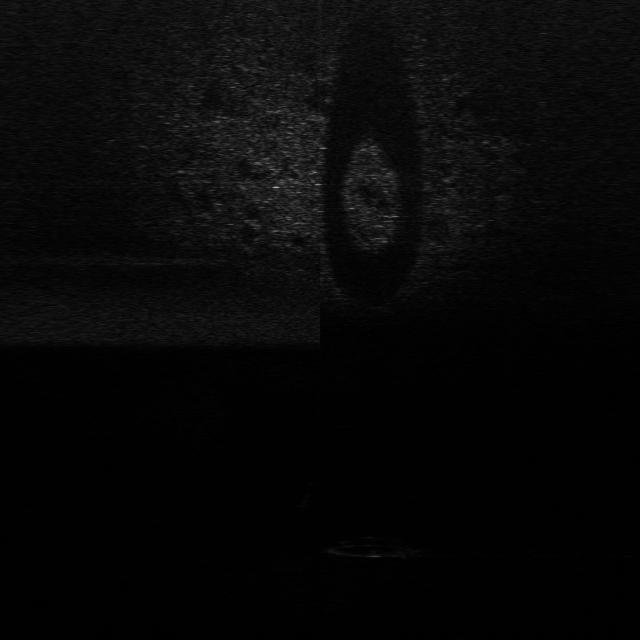tyre: (327, 536, 427, 561)
